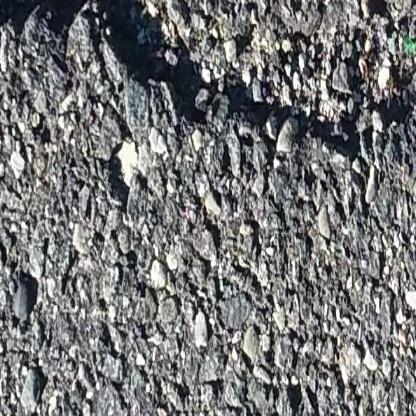Cracks: (0, 0, 416, 215), (225, 18, 260, 67)
